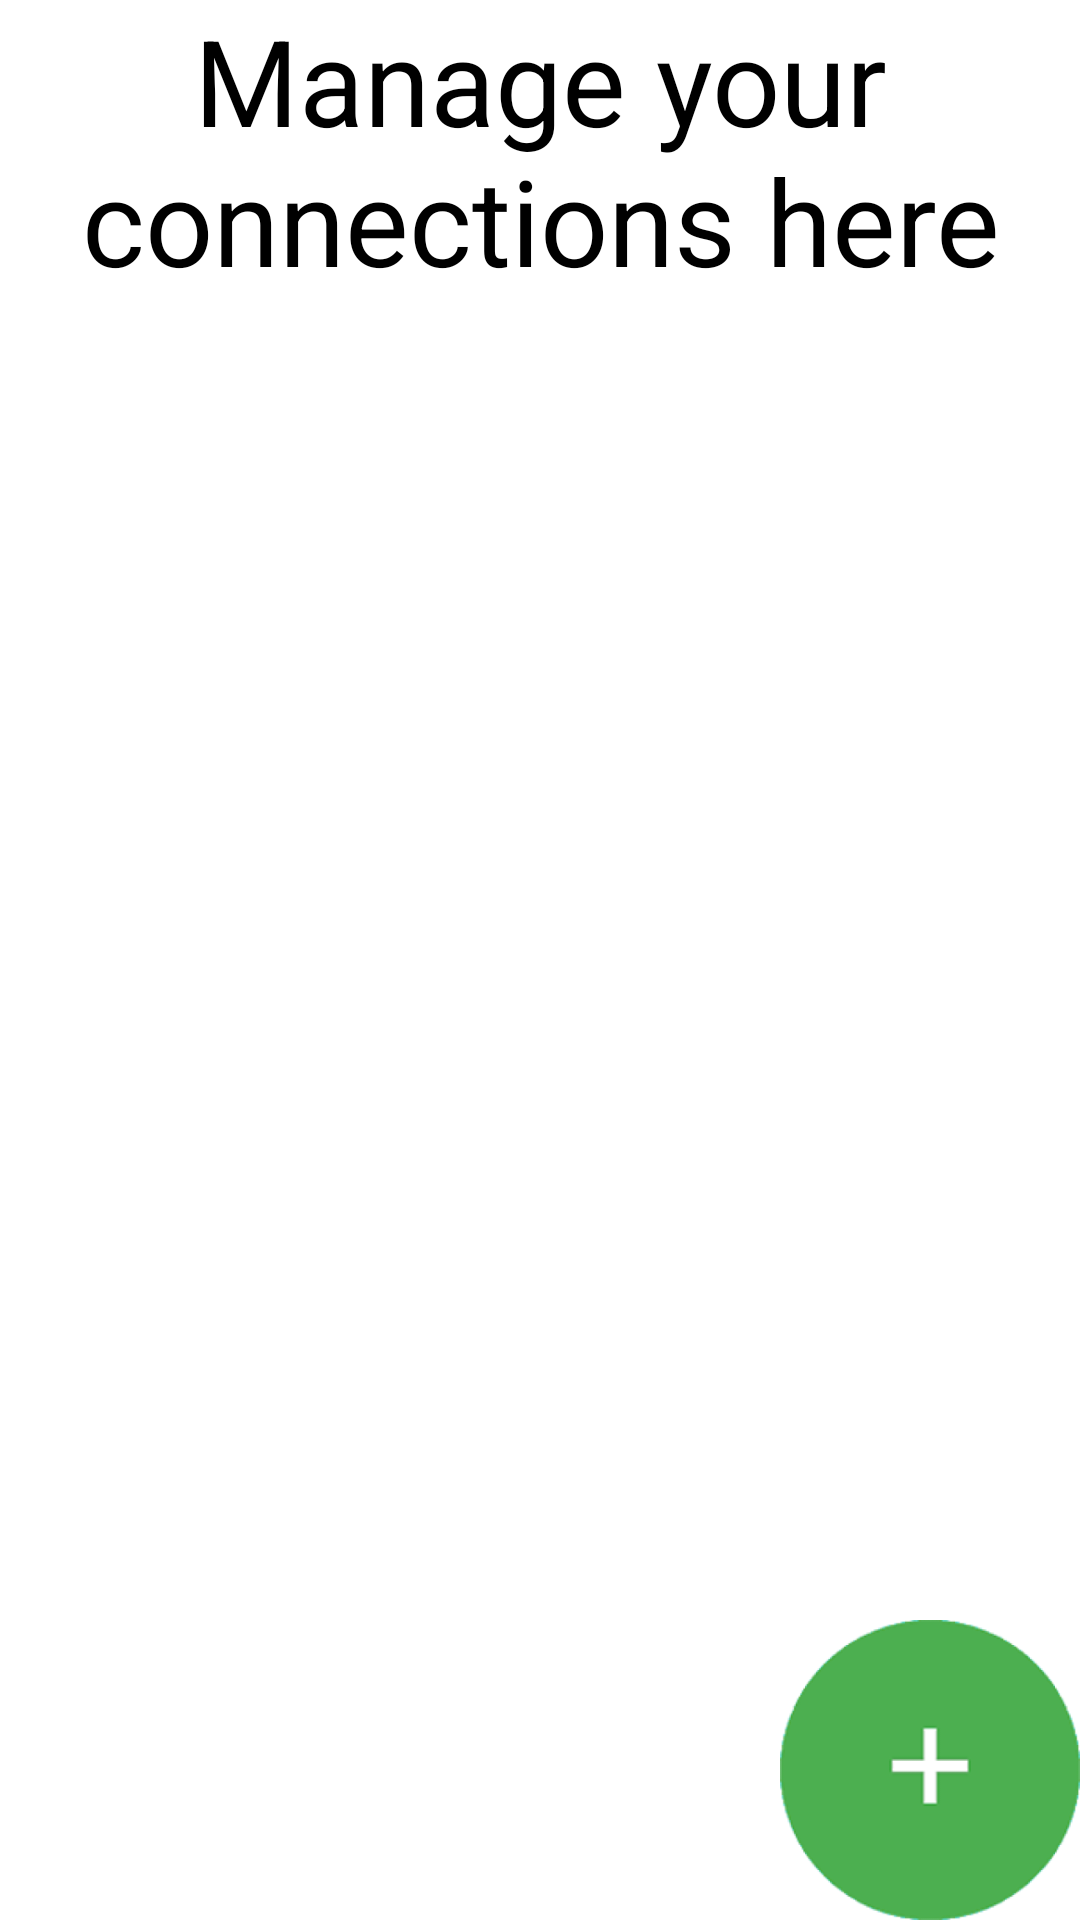

Icon bounding boxes for this 1080px x 1920px phone screenshot, format (x1,y1,x2,y2):
plus sign: (780,1620,1080,1920)
